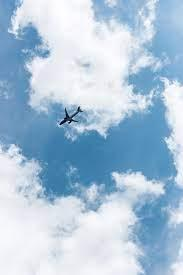Plane: (53, 98, 86, 130)
